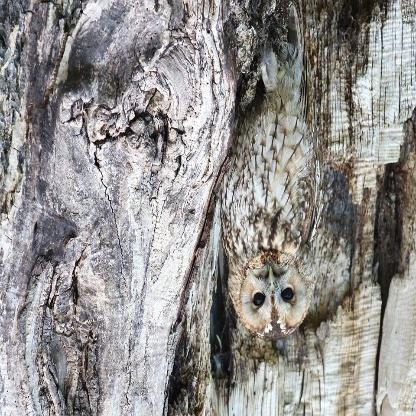Owl: (220, 48, 318, 341)
